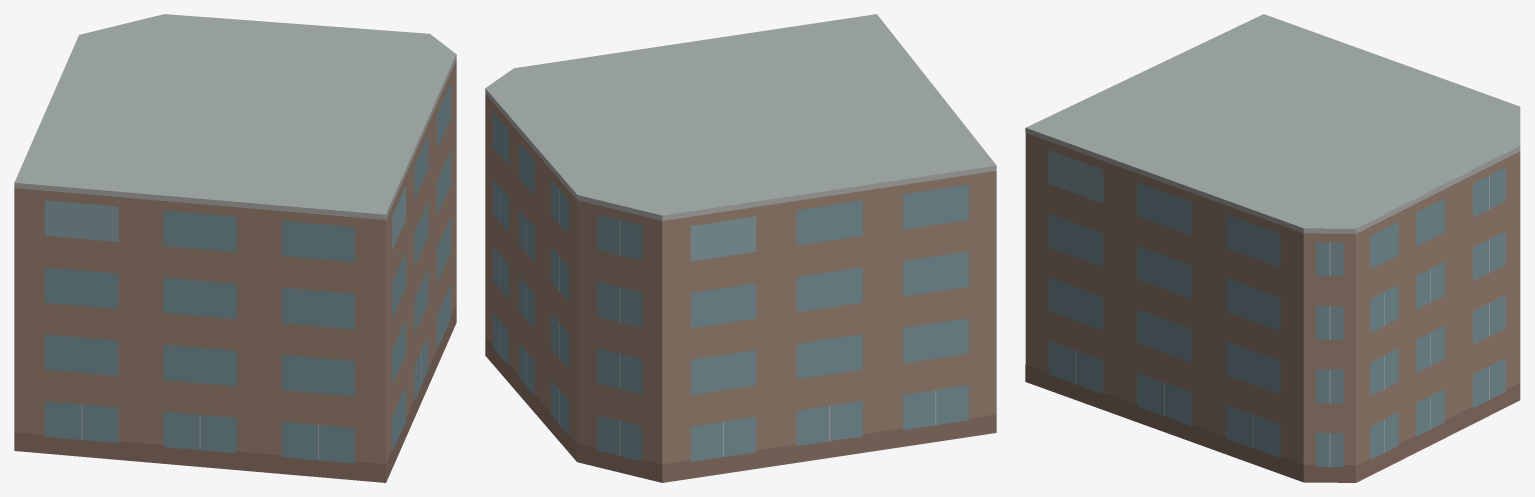
Rendered from survey-upis-32828655.glb.
3 views of the same model, side by side, from view 1: azimuth 30°, elevation 25°; view 2: azimuth 150°, elevation 25°; view 3: azimuth 270°, elevation 25° (orthographic). The views are drawn at different scales.
Parts seen in each view (by area): view 1: survey-upis-32828655.tmp; view 2: survey-upis-32828655.tmp; view 3: survey-upis-32828655.tmp.
Boxes of the visible parts, box(x1,y1,x2,y2) form: survey-upis-32828655.tmp: box(14, 14, 456, 482); survey-upis-32828655.tmp: box(485, 14, 996, 482); survey-upis-32828655.tmp: box(1025, 14, 1520, 482).
Bounding box in the file's own units: 22.12 × 12.2 × 21.54.
